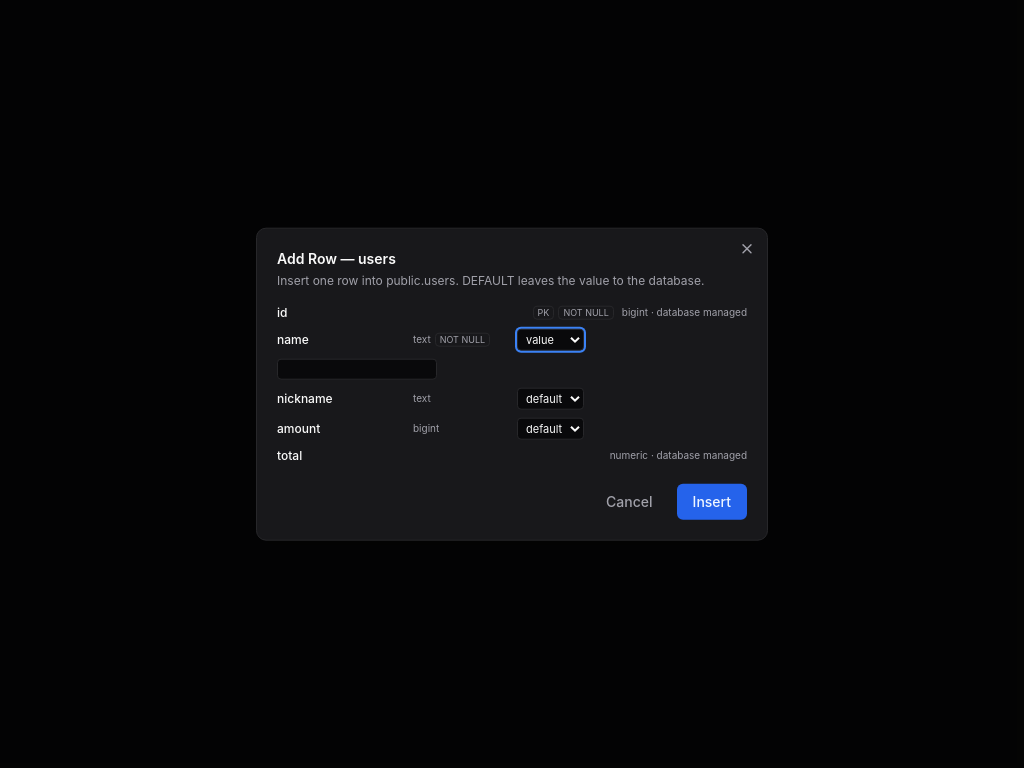
Test: AddRowDialog › clears a field error as soon as the field changes
Select "value" in the dropdown named "amount mode" at (550, 428), box [517,417,584,439]
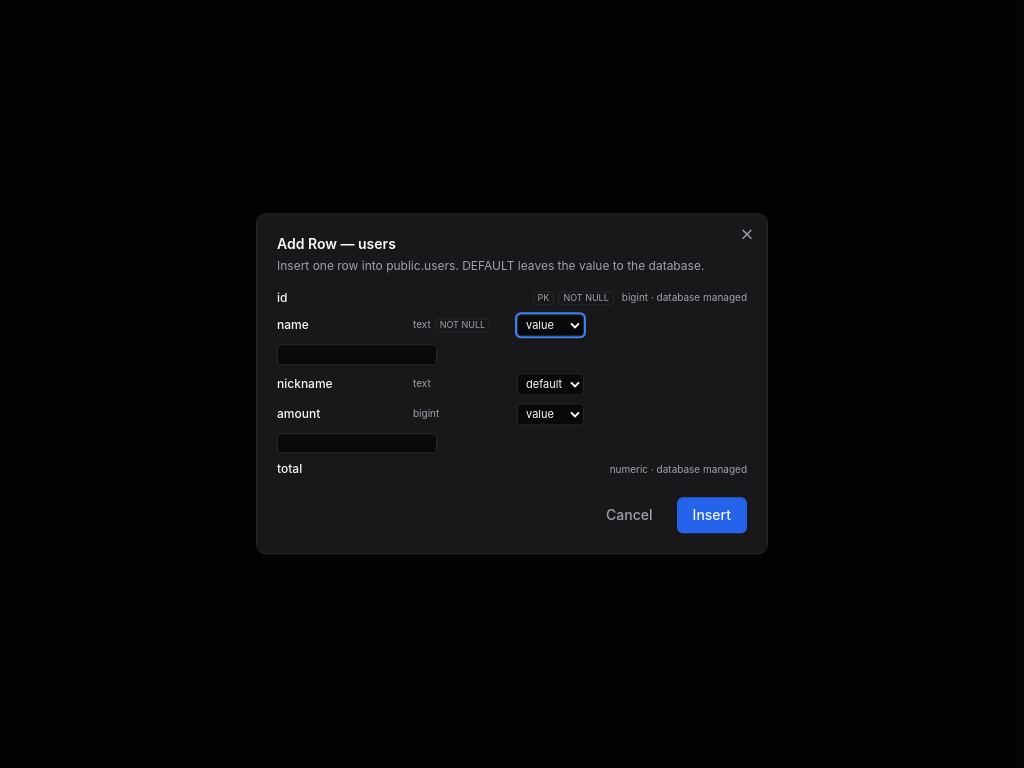
Type "abc" into the field named "amount value" at (357, 443), box [277,433,437,454]
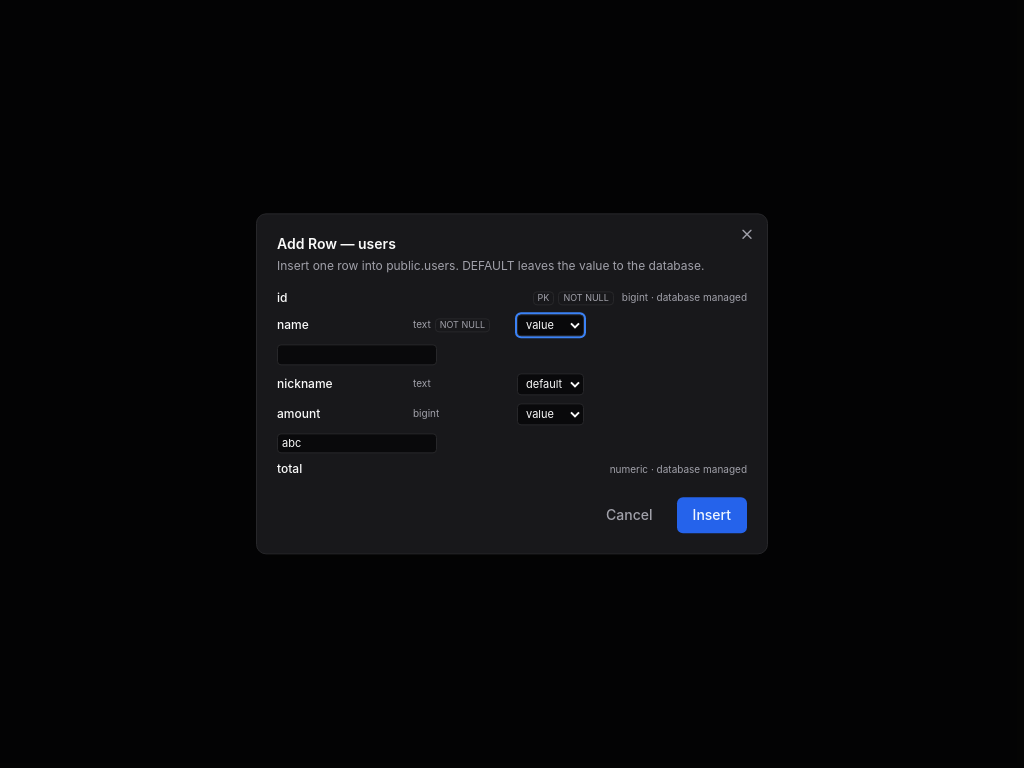
Click the button "Insert" at (712, 516), box [677,498,747,534]
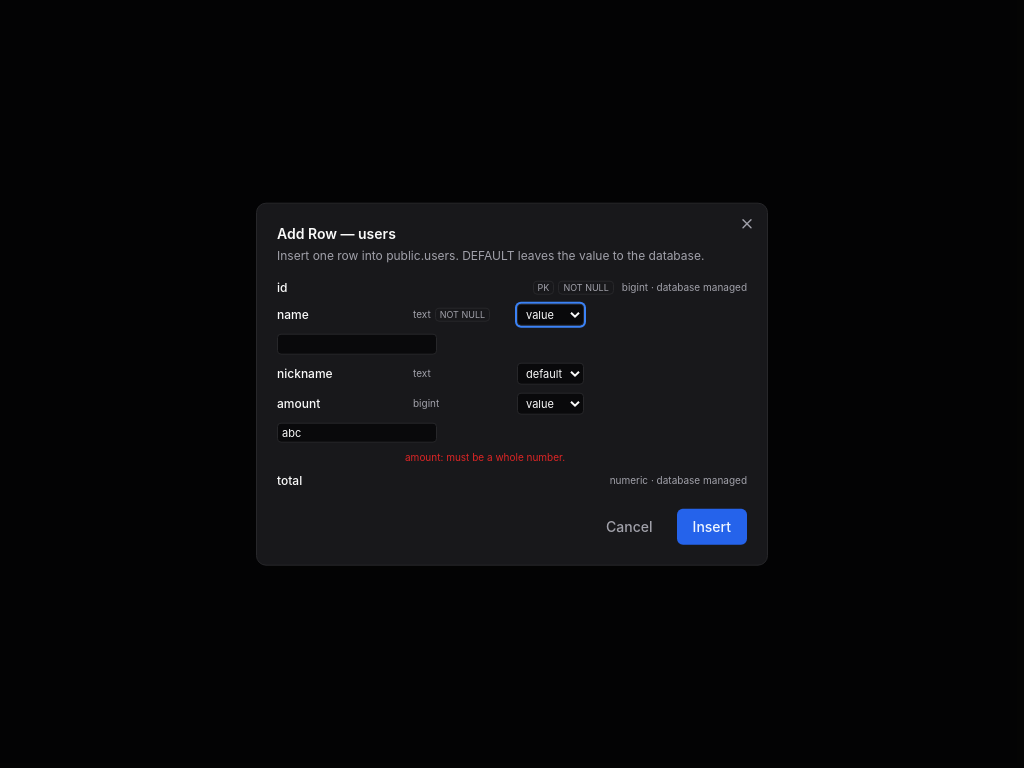
Now the message "amount: must be a whole number." is shown, box [405,451,565,463]
Replace the text in the field named "amount value" with "7" at (357, 433), box [277,422,437,443]
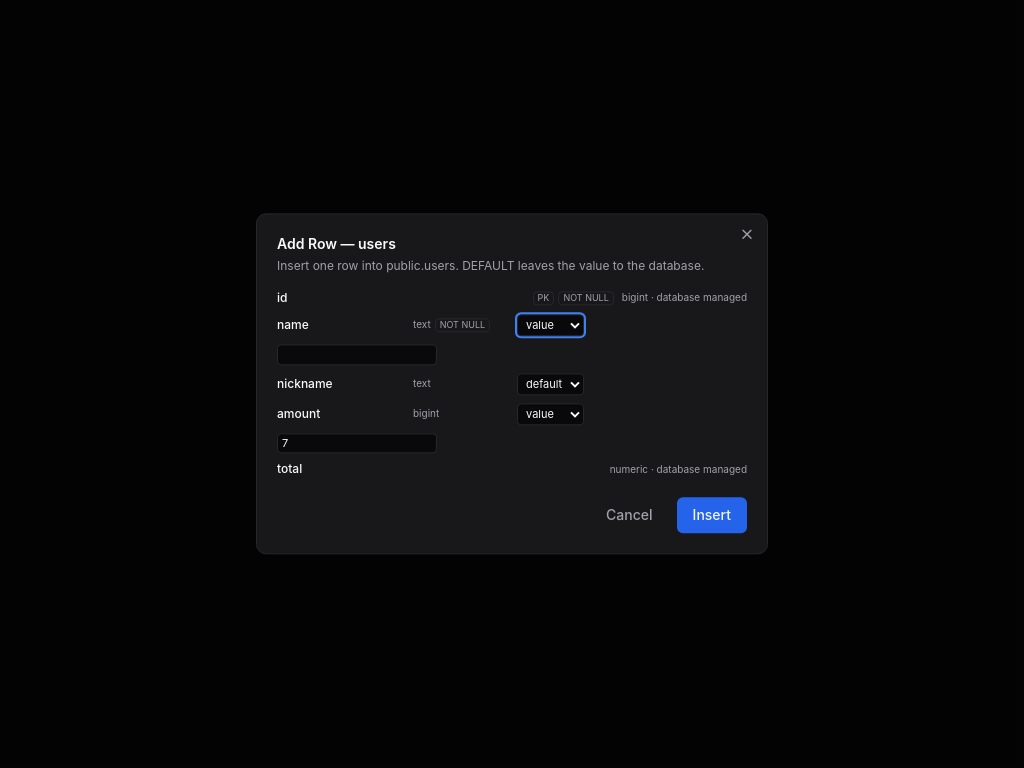
Now the message with test id "row-field-error" is gone
